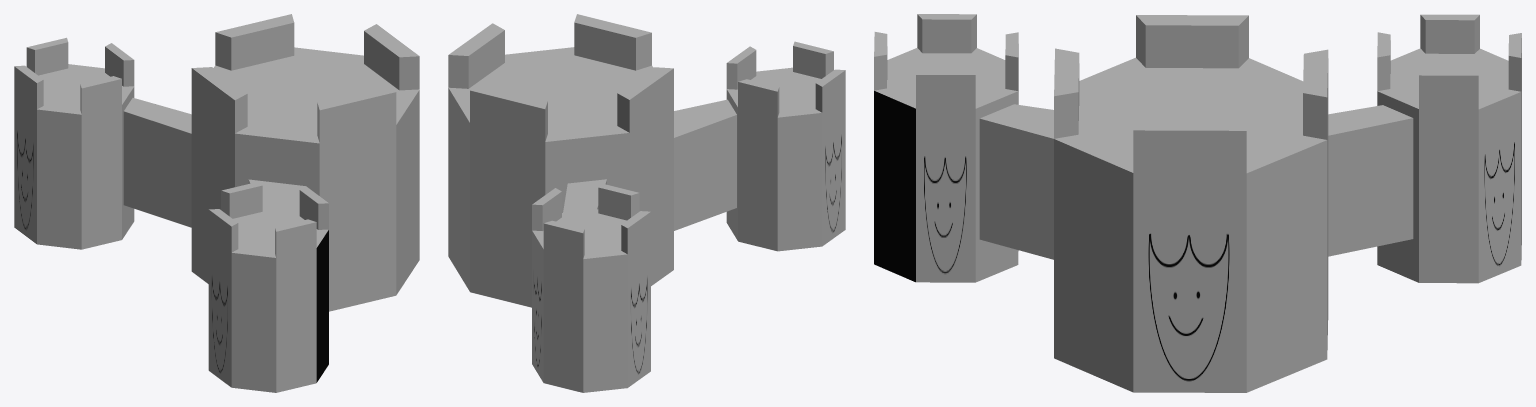
Rendered from Fort & Keep.fbx.
The picture shows the model from 3 angles, left to right: view 1: azimuth 30°, elevation 25°; view 2: azimuth 150°, elevation 25°; view 3: azimuth 270°, elevation 25°; orthographic projection. The views are drawn at different scales.
Visible parts, largest first — view 1: Fort & Keep; view 2: Fort & Keep; view 3: Fort & Keep.
Boxes of the visible parts, x1,y1,x2,y2 form: Fort & Keep: [14, 14, 419, 392]; Fort & Keep: [448, 14, 845, 392]; Fort & Keep: [874, 14, 1521, 392].
Size of the model in its own units: 35.85 by 25.55 by 57.25.
